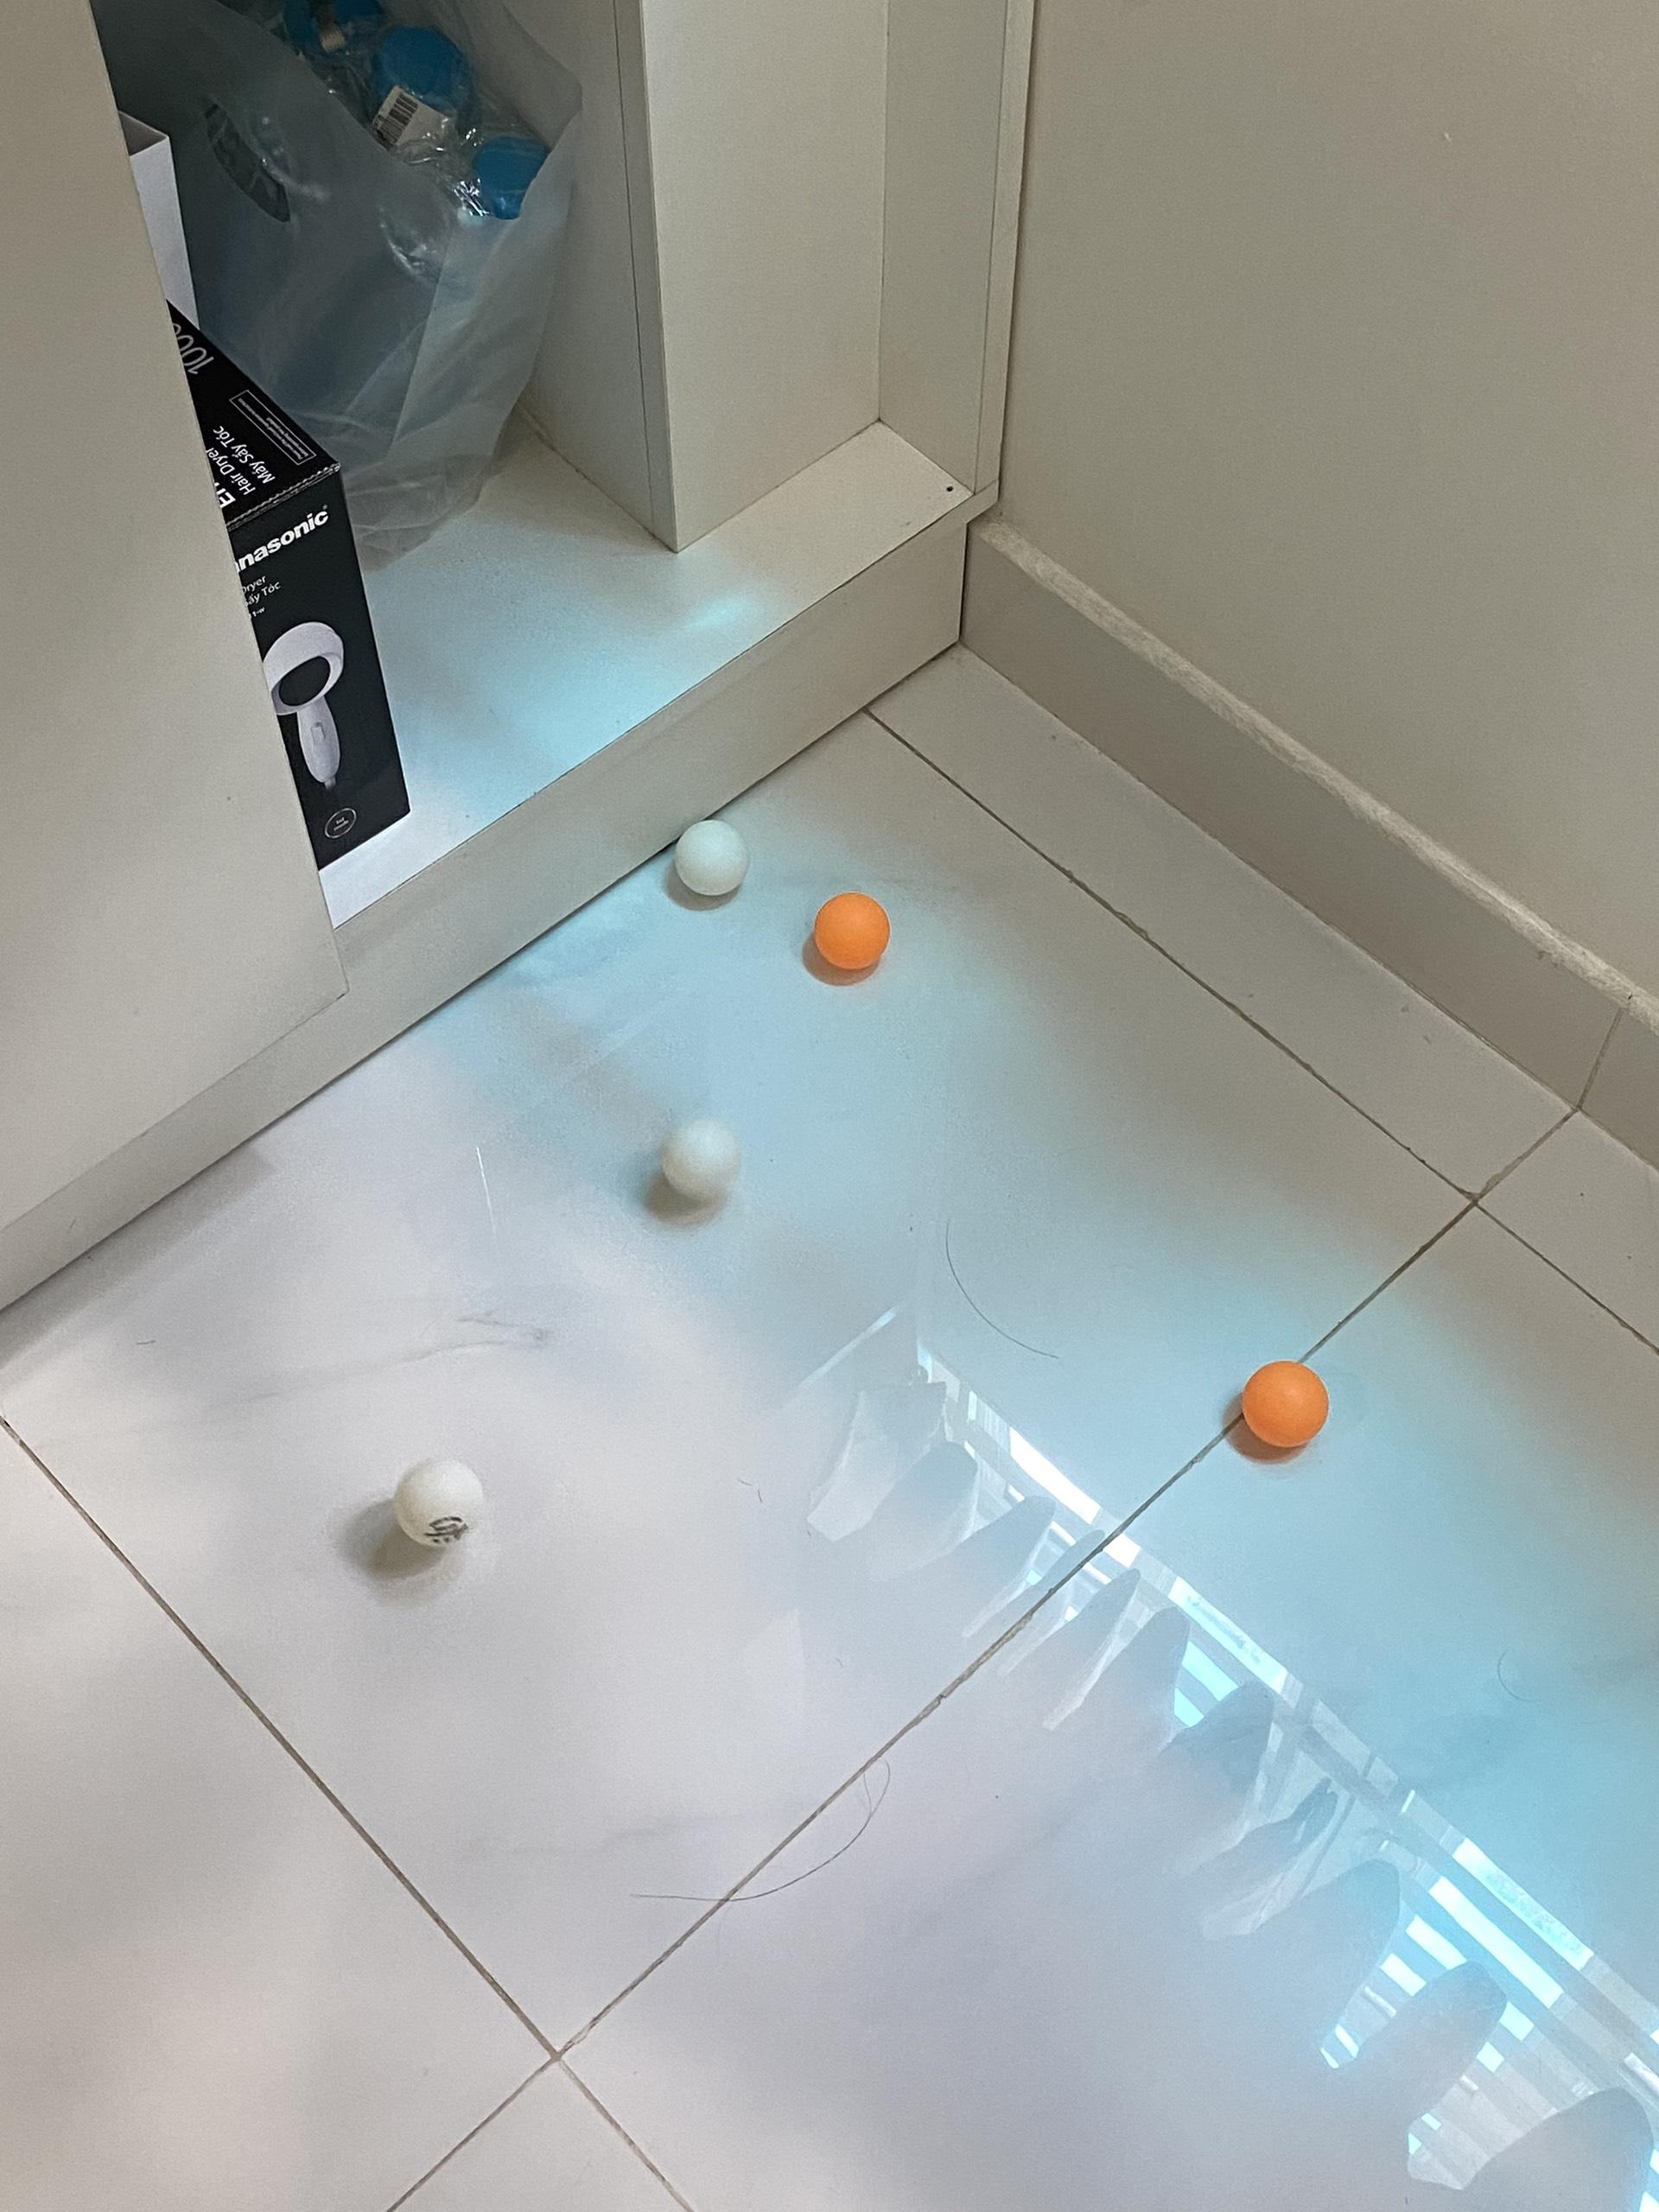oball: (1244, 1362, 1331, 1454), (809, 890, 892, 977)
